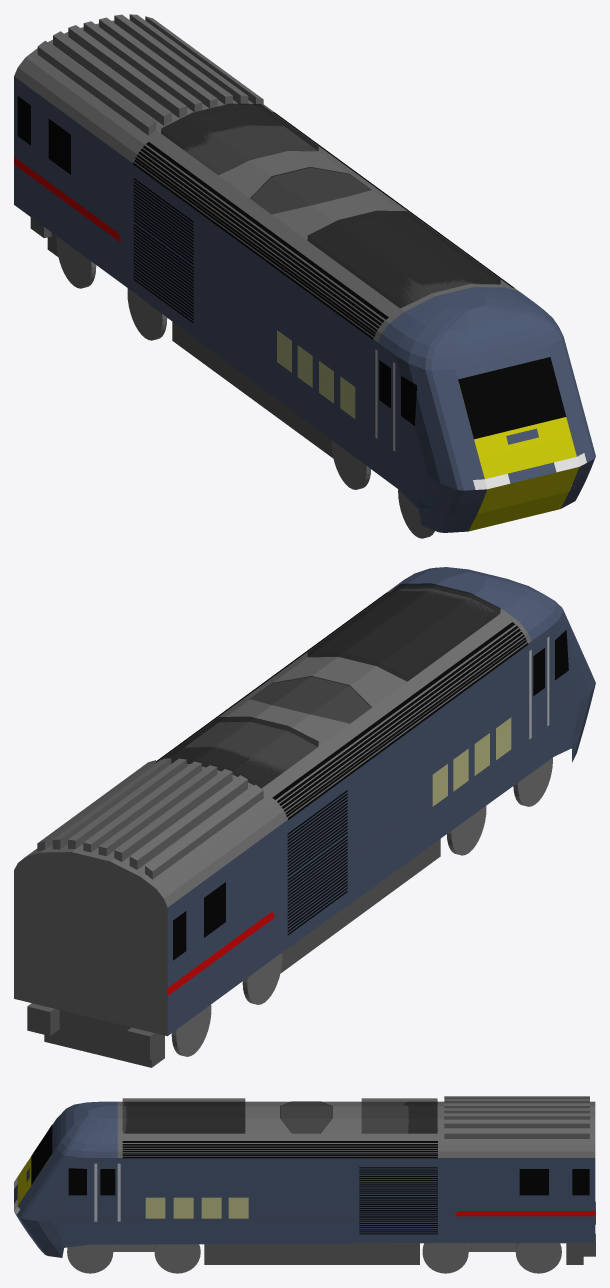
The model's file is br-cl43-front-gner.dae.
3 views of the same model, one above another, from view 1: azimuth 30°, elevation 25°; view 2: azimuth 150°, elevation 25°; view 3: azimuth 270°, elevation 25° (orthographic). The views are drawn at different scales.
Visible parts, largest first — view 1: Plane_030, Plane_001, Cube_008, Plane_028, Plane_135, Plane_148, Plane_136, Plane_117, Plane_166, Plane_137, Cube_033, Cylinder_008 (+4 smaller); view 2: Plane_030, Plane_001, Plane_019, Cube_008, Plane_135, Plane_148, Plane_136, Plane_166, Plane_028, Plane_137, Cube_033, Cube_001 (+7 smaller); view 3: Plane_030, Plane_001, Cube_008, Plane_104, Cube_033, Plane_135, Plane_016, Plane_028, Plane_136, Plane_137, Cylinder_010, Cylinder_011 (+16 smaller).
Boxes of the visible parts, x1=… form: Plane_030: x1=14, y1=76, x2=595, y2=532; Plane_001: x1=14, y1=20, x2=518, y2=342; Cube_008: x1=37, y1=14, x2=263, y2=135; Plane_028: x1=378, y1=287, x2=563, y2=370; Plane_135: x1=307, y1=210, x2=500, y2=308; Plane_148: x1=133, y1=142, x2=388, y2=339; Plane_136: x1=161, y1=103, x2=318, y2=174; Plane_117: x1=458, y1=357, x2=566, y2=439; Plane_166: x1=133, y1=178, x2=193, y2=323; Plane_137: x1=250, y1=167, x2=371, y2=214; Cube_033: x1=172, y1=322, x2=333, y2=458; Cylinder_008: x1=56, y1=236, x2=96, y2=288; Plane_030: x1=167, y1=610, x2=595, y2=1035; Plane_001: x1=14, y1=586, x2=531, y2=907; Plane_019: x1=14, y1=870, x2=167, y2=1036; Cube_008: x1=37, y1=758, x2=263, y2=879; Plane_135: x1=307, y1=583, x2=500, y2=681; Plane_148: x1=272, y1=622, x2=528, y2=819; Plane_136: x1=161, y1=716, x2=318, y2=788; Plane_166: x1=287, y1=790, x2=347, y2=935; Plane_028: x1=390, y1=567, x2=563, y2=640; Plane_137: x1=250, y1=676, x2=371, y2=723; Cube_033: x1=280, y1=839, x2=440, y2=973; Cube_001: x1=44, y1=1010, x2=164, y2=1067; Plane_030: x1=15, y1=1119, x2=595, y2=1257; Plane_001: x1=117, y1=1101, x2=595, y2=1157; Cube_008: x1=444, y1=1096, x2=589, y2=1138; Plane_104: x1=122, y1=1141, x2=437, y2=1158; Cube_033: x1=204, y1=1243, x2=419, y2=1264; Plane_135: x1=122, y1=1098, x2=245, y2=1133; Plane_016: x1=359, y1=1167, x2=437, y2=1234; Plane_028: x1=56, y1=1101, x2=117, y2=1157; Plane_136: x1=361, y1=1098, x2=437, y2=1133; Plane_137: x1=280, y1=1101, x2=332, y2=1133; Cylinder_010: x1=422, y1=1243, x2=468, y2=1273; Cylinder_011: x1=515, y1=1243, x2=561, y2=1273.
Bounding box in the file's own units: 2.02 × 9.99 × 2.77.
